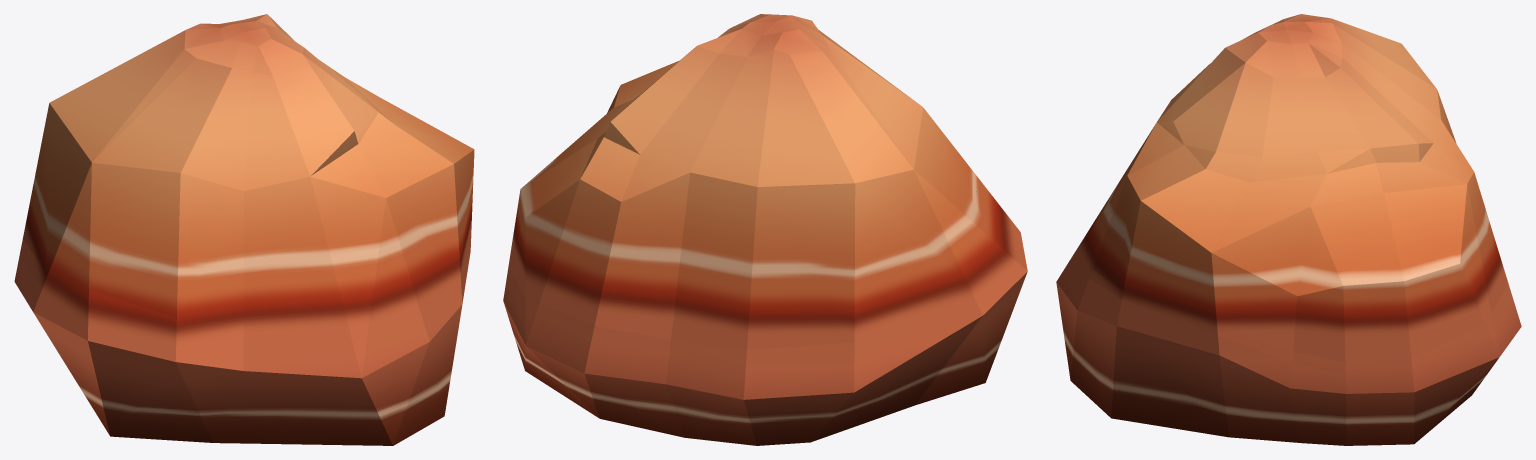
File: RockCanyon1.fbx
The picture shows the model from 3 angles, left to right: view 1: azimuth 30°, elevation 25°; view 2: azimuth 150°, elevation 25°; view 3: azimuth 270°, elevation 25°; orthographic projection. The views are drawn at different scales.
Visible parts, largest first — view 1: RockCanyon1; view 2: RockCanyon1; view 3: RockCanyon1.
Boxes of the visible parts, box(x1,y1,x2,y2) form: RockCanyon1: box(14, 14, 474, 445); RockCanyon1: box(503, 14, 1027, 445); RockCanyon1: box(1056, 14, 1521, 445).
Size of the model in its own units: 88.39 by 70.87 by 88.66.
